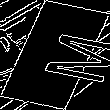M_W: (8, 25, 102, 85)
